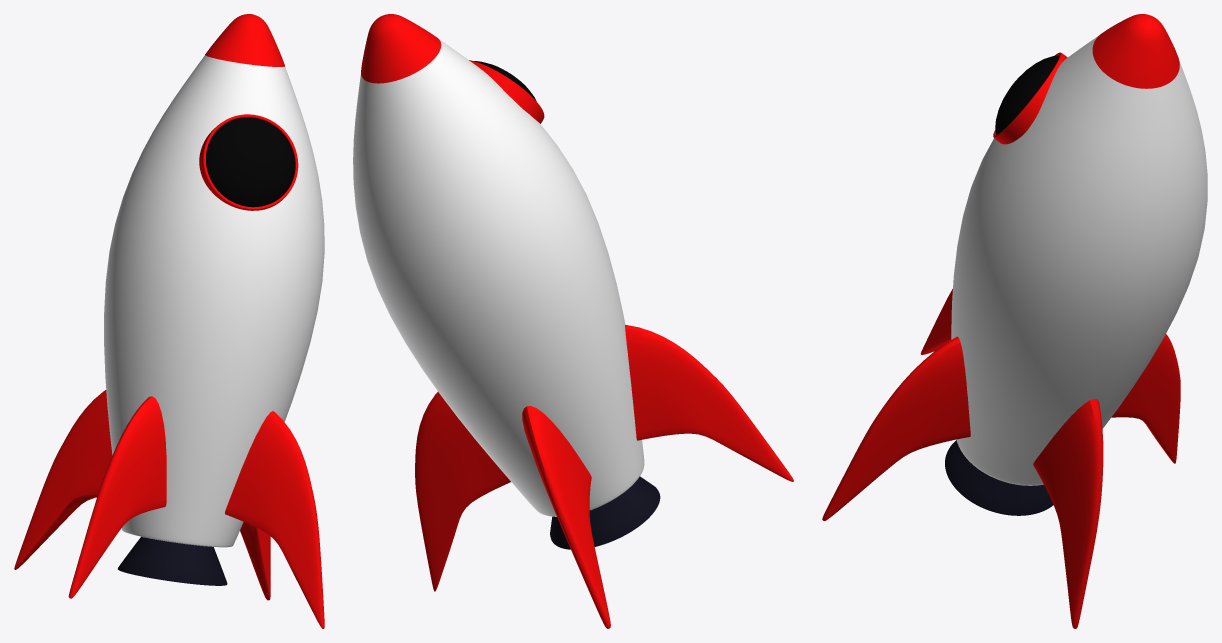
3 renders of one model, left to right at view 1: azimuth 30°, elevation 25°; view 2: azimuth 150°, elevation 25°; view 3: azimuth 270°, elevation 25°, orthographic. The views are drawn at different scales.
Visible parts, largest first — view 1: ToyRocket_0; view 2: ToyRocket_0; view 3: ToyRocket_0.
Boxes of the visible parts, x1=… form: ToyRocket_0: x1=14, y1=14, x2=324, y2=628; ToyRocket_0: x1=353, y1=14, x2=793, y2=628; ToyRocket_0: x1=822, y1=14, x2=1207, y2=628.
Size of the model in its own units: 0.2159 by 0.3611 by 0.204.
1 material, 1 textured.
